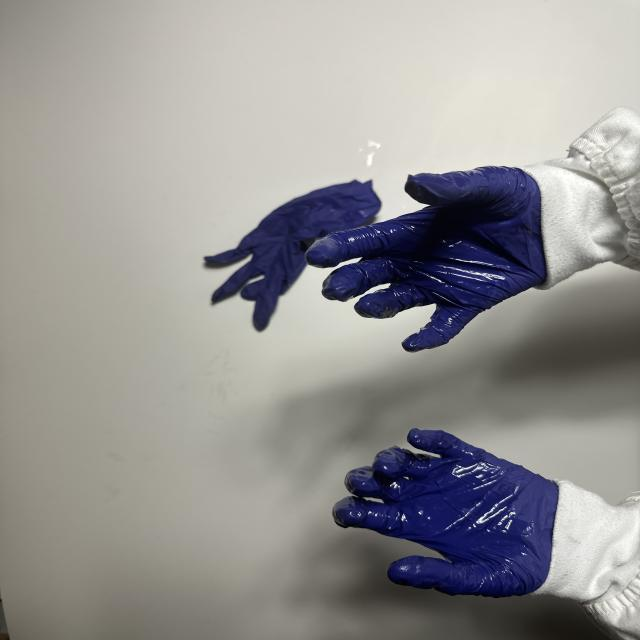gloves_contaminated: (306, 167, 546, 352), (333, 428, 559, 597)
